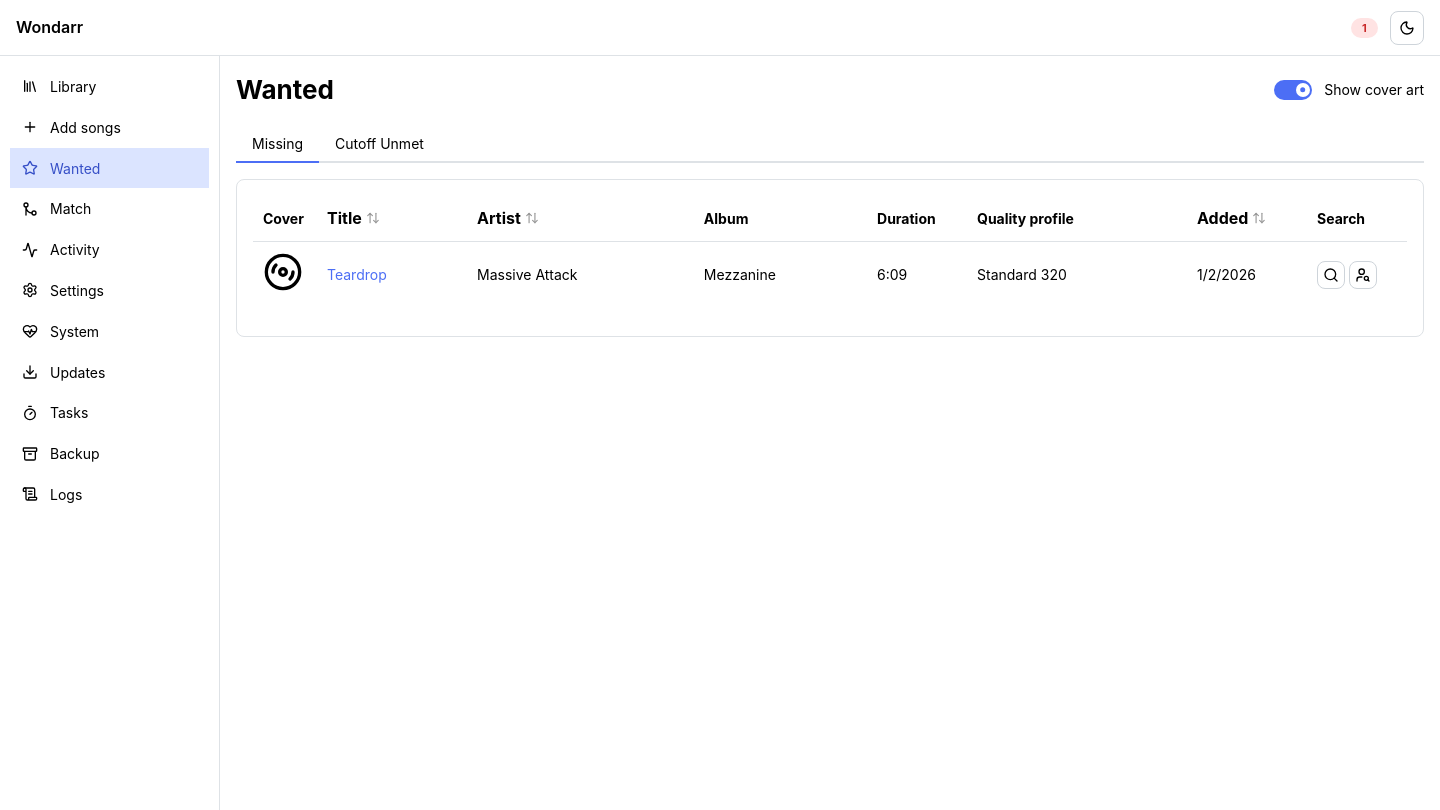
Test: WantedPage › starts the automatic search when the search button is used
Click the button named "Search for Teardrop" at (1331, 275), box [1317,261,1345,289]
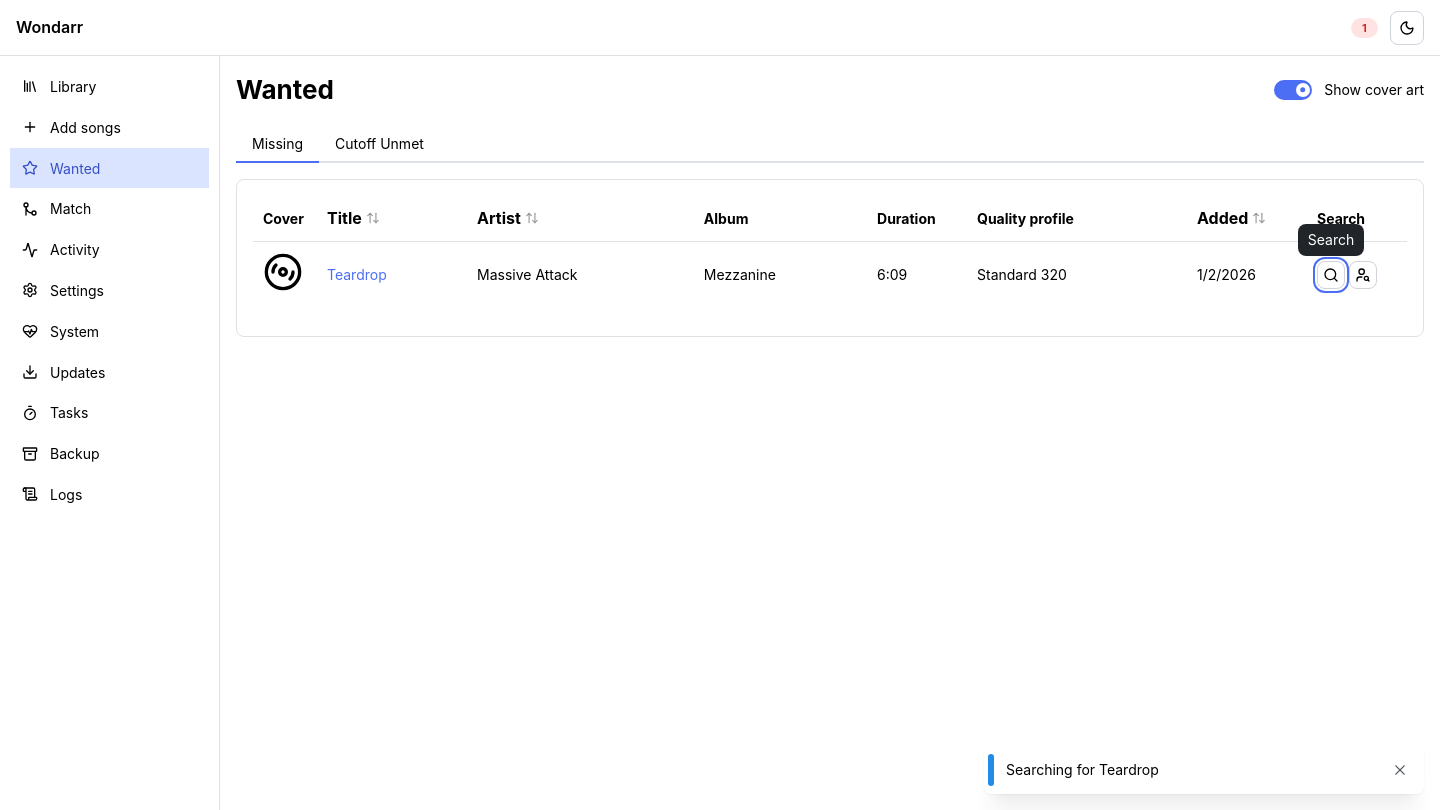
Result: the text "Searching for Teardrop" is shown at [1006,761,1159,778]
